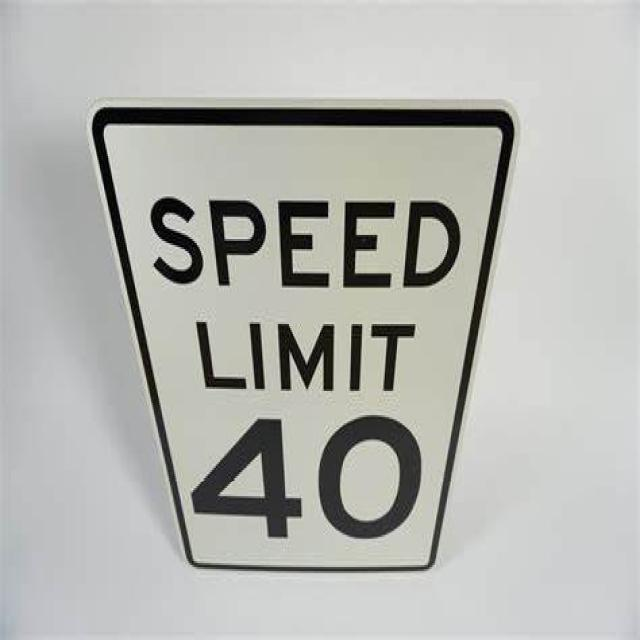speedLimit40: (88, 105, 518, 573)
